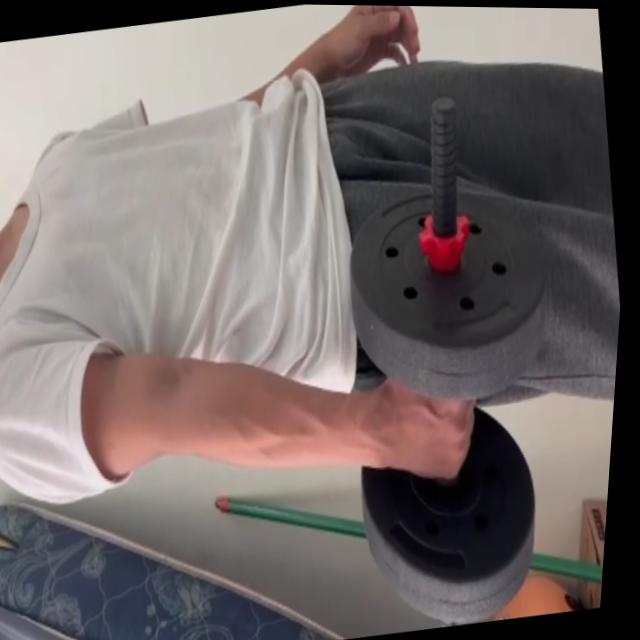hammer: (309, 170, 600, 636)
